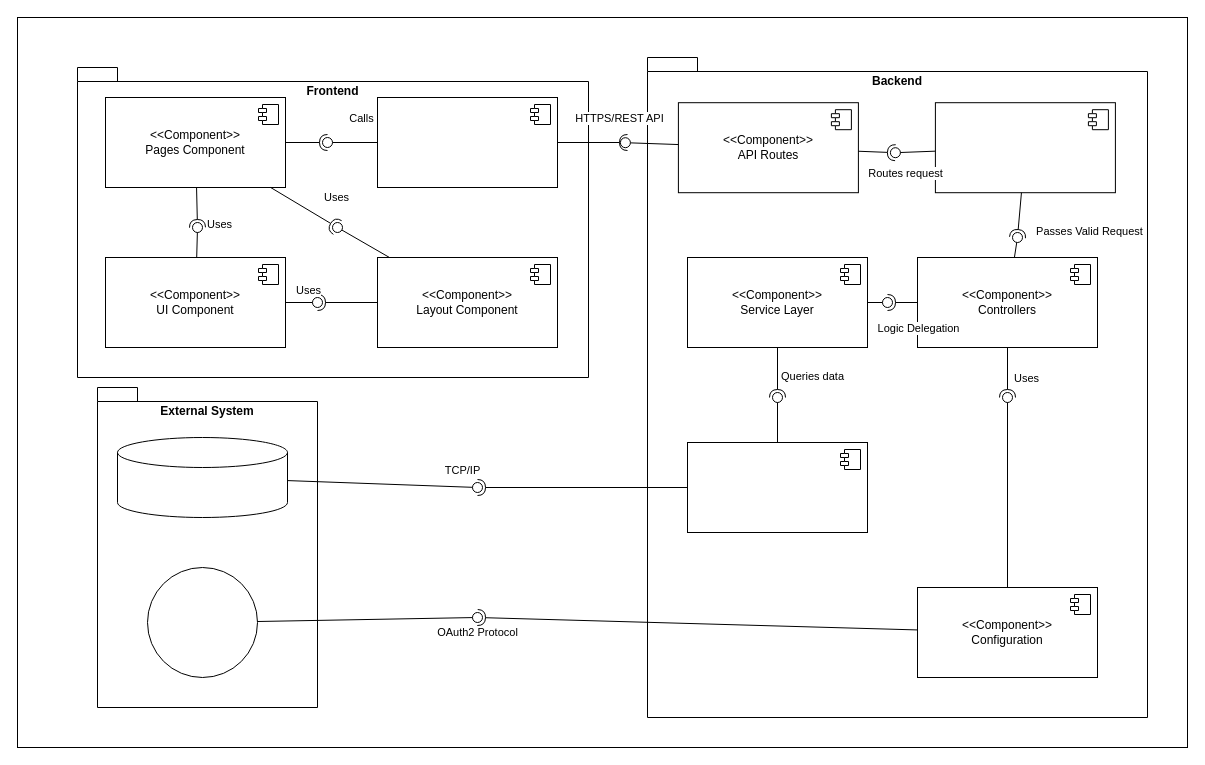
The diagram is 1205 pixels wide and 765 high, and some of its shapes have lost their labels. The shapes that lost their labels are listed below. From the top down, each one's centre as x and y in pixels, then its label:
pixel 467 142: <<Component>> API Client
pixel 1024 147: <<Component>> Middlewares
pixel 202 477: <<Database>> PostgreSQL
pixel 777 487: <<Component>> Prisma Client
pixel 202 622: <<Auth>> SSO ITB
